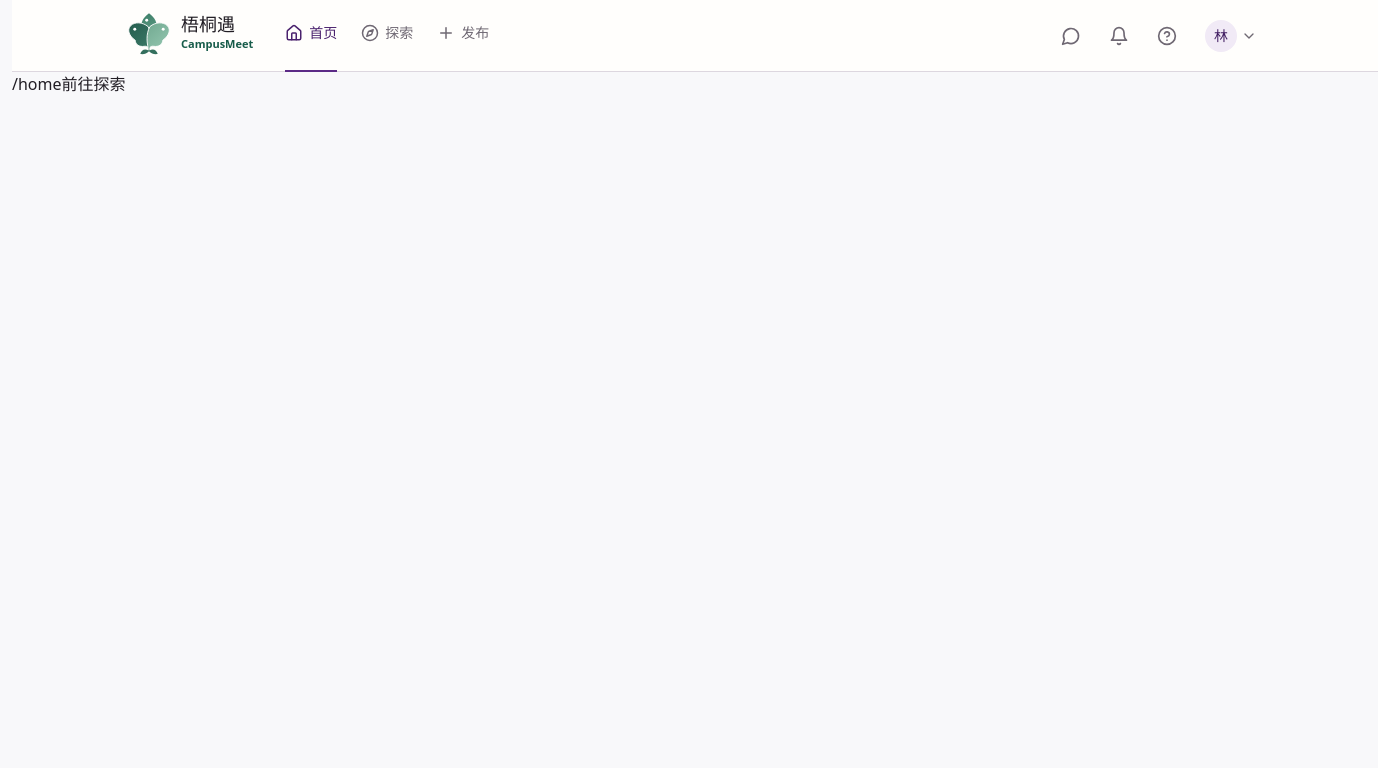
Test: responsive application navigation › closes the menu after an outside click
Click the button named "打开个人菜单".
click(1231, 36)  # box [1199, 14, 1263, 58]
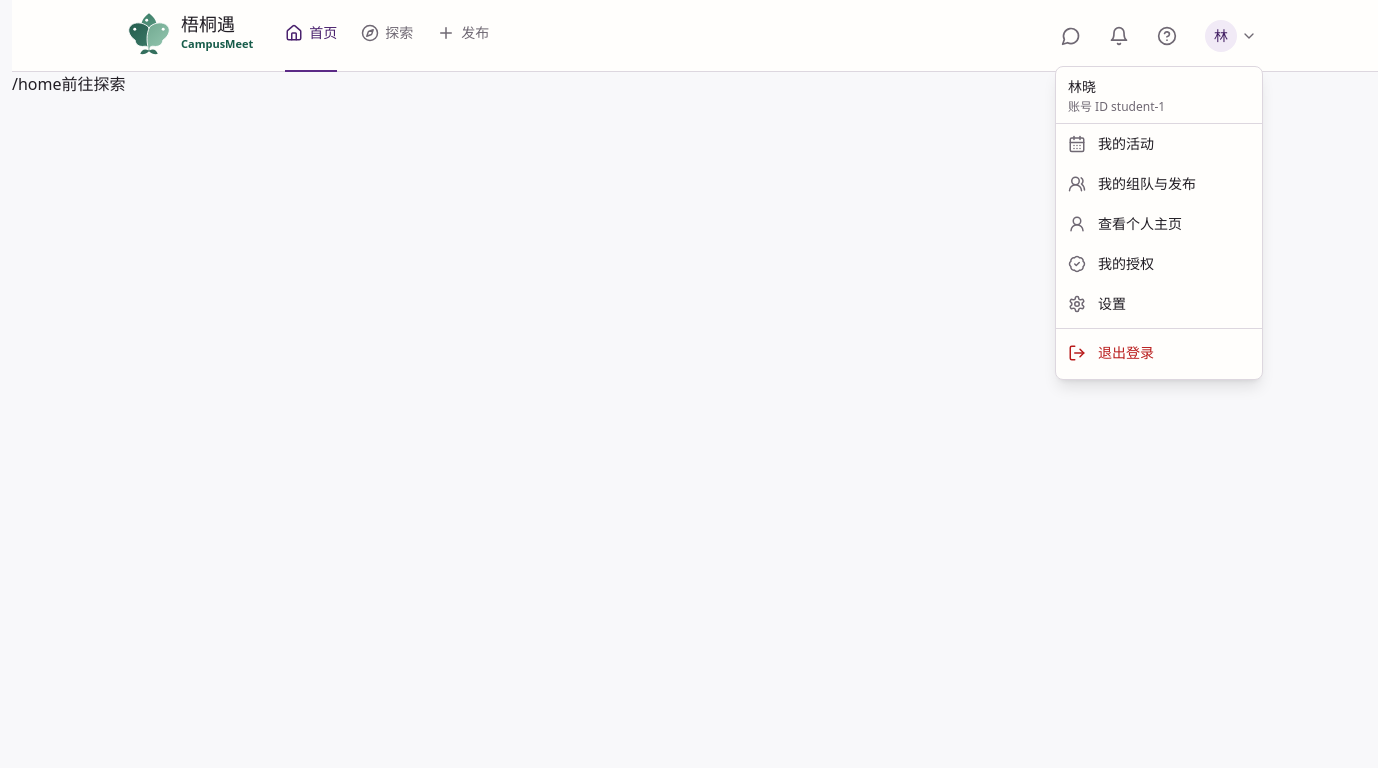
Expected: the menu is shown, [1055, 66, 1263, 380]
Press the mouse on the element that starts with "梧桐遇" at (695, 384), box [12, 0, 1377, 767]
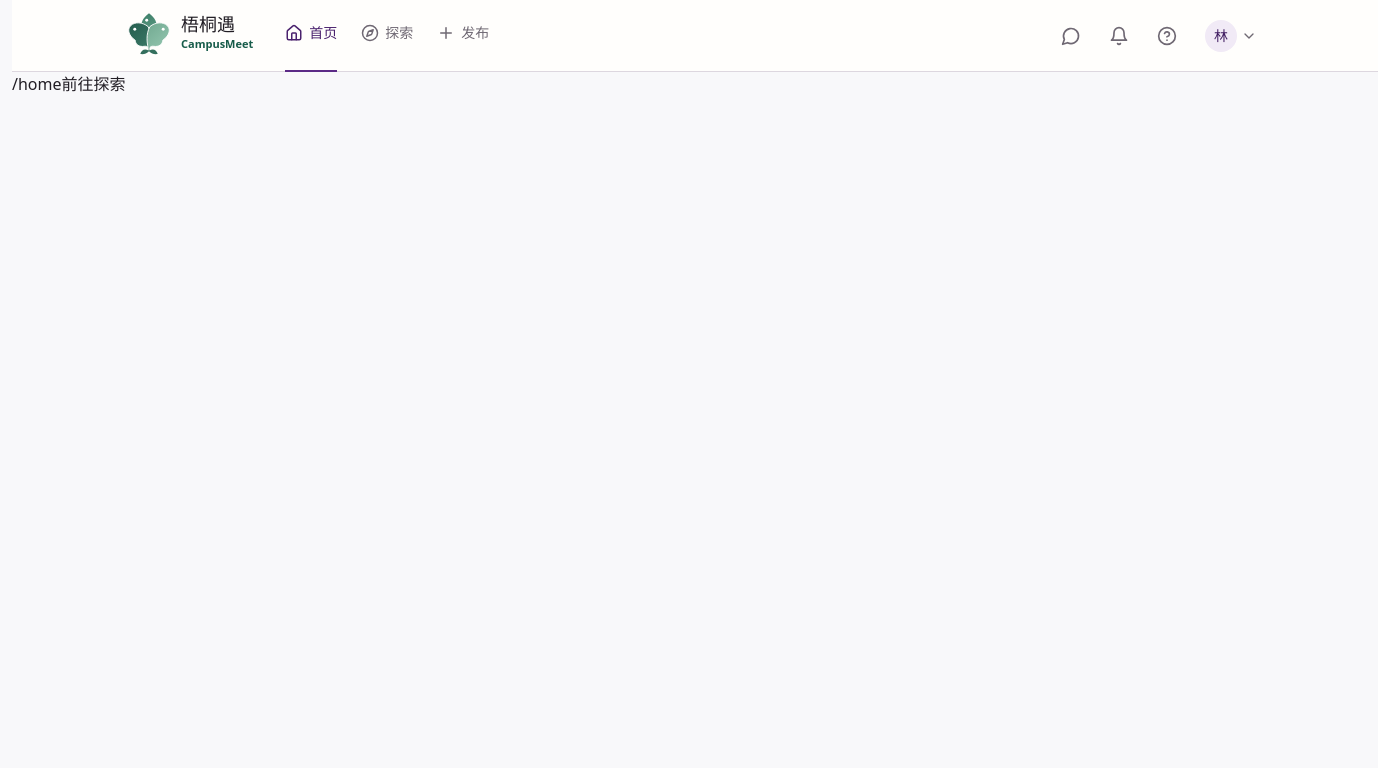
Expected: the menu is gone
